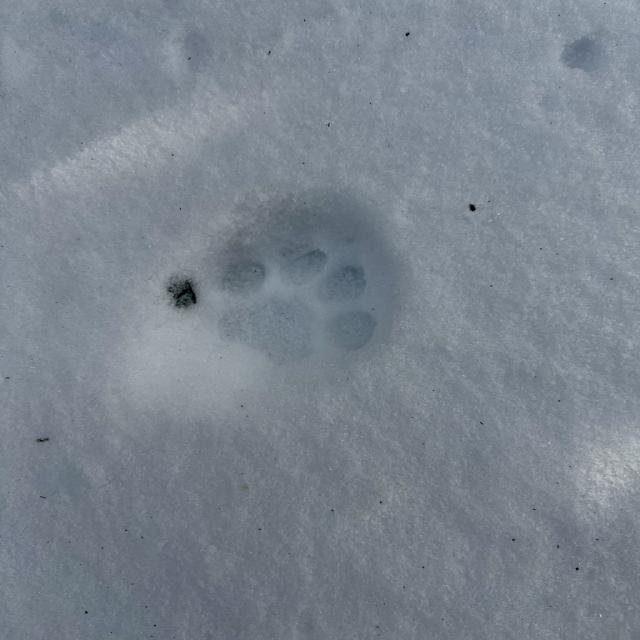felid: (222, 236, 373, 370)
